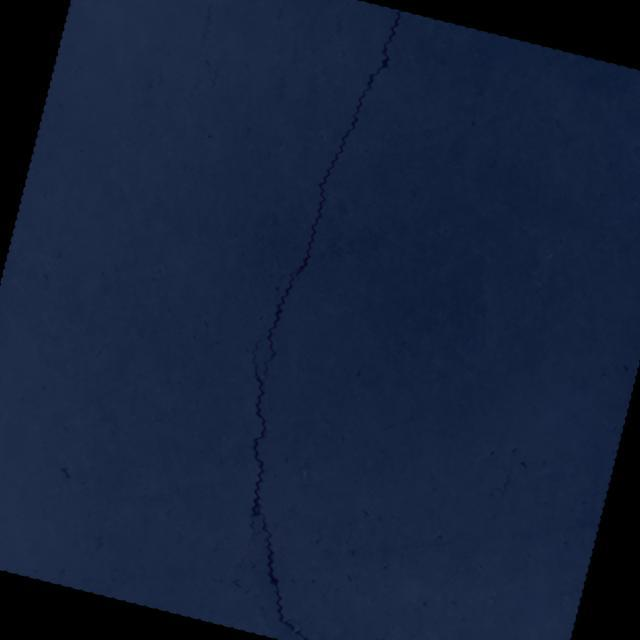crack: (179, 0, 462, 640)
